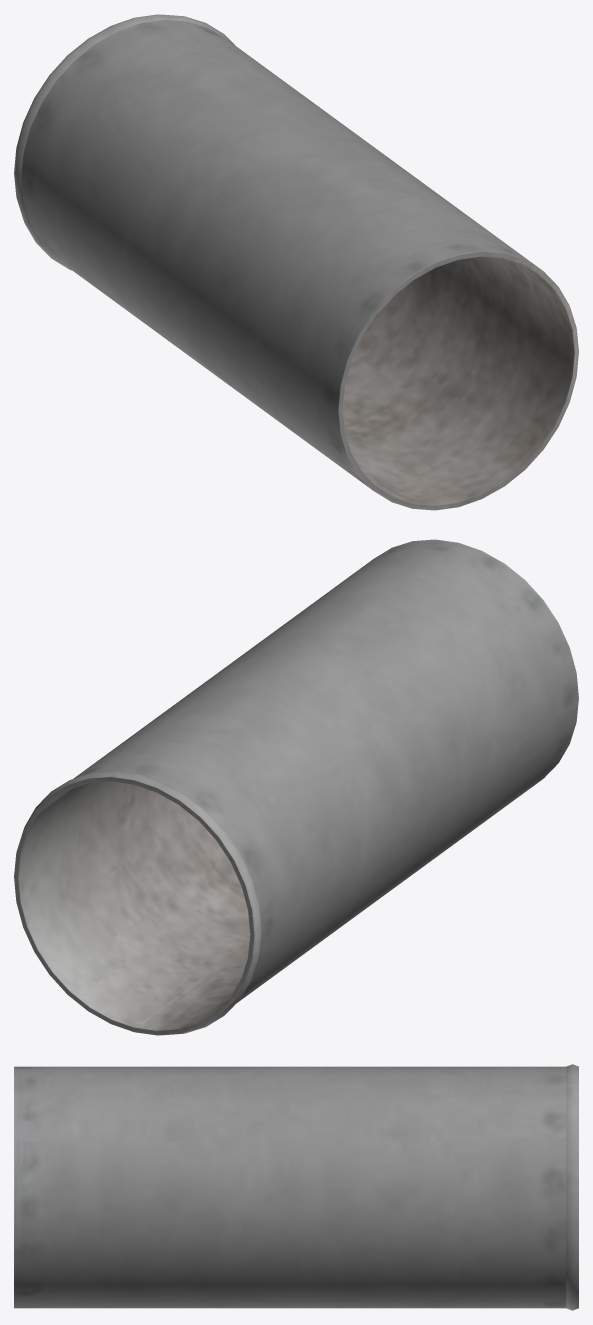
File: circular_smooth_triple.gltf
3 renders of one model, top to bottom at view 1: azimuth 30°, elevation 25°; view 2: azimuth 150°, elevation 25°; view 3: azimuth 270°, elevation 25°, orthographic. The views are drawn at different scales.
Parts seen in each view (by area): view 1: circular_smooth_triple; view 2: circular_smooth_triple; view 3: circular_smooth_triple.
Part boxes in pixels (left/top/right/bottom): circular_smooth_triple: left=14, top=14, right=578, bottom=510; circular_smooth_triple: left=14, top=539, right=578, bottom=1035; circular_smooth_triple: left=14, top=1064, right=578, bottom=1310.
Size of the model in its own units: 0.371 by 0.3713 by 0.8499.
1 material, 1 textured.
